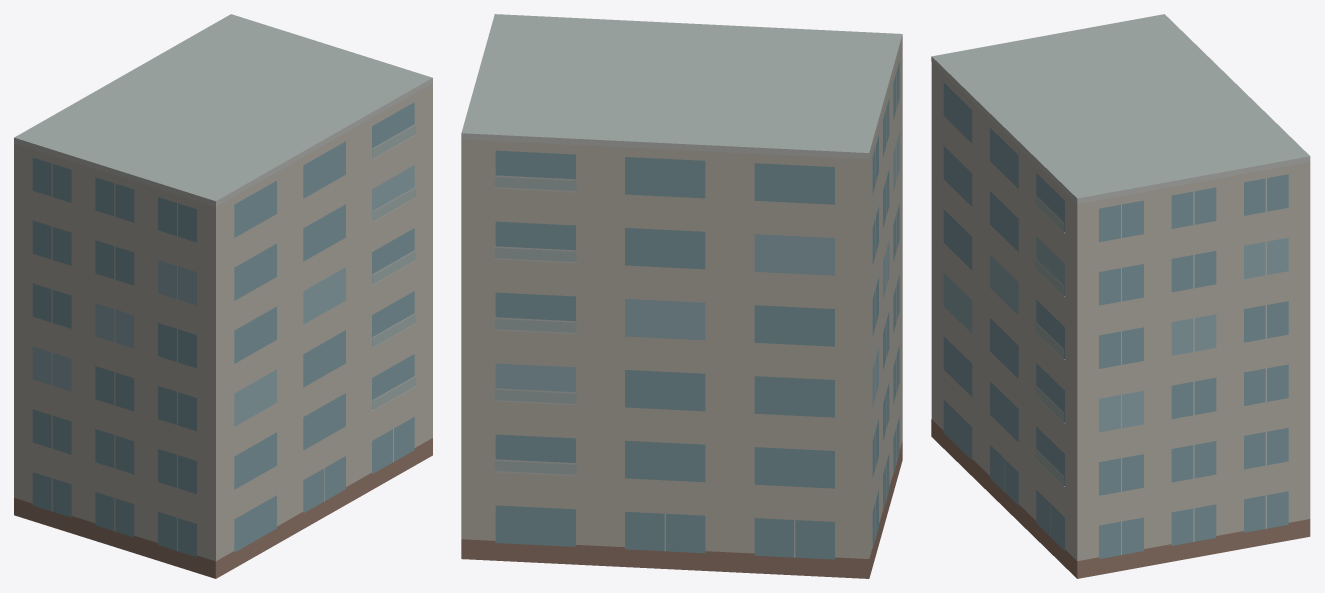
File: survey-upis-32878534.glb
The picture shows the model from 3 angles, left to right: view 1: azimuth 30°, elevation 25°; view 2: azimuth 150°, elevation 25°; view 3: azimuth 270°, elevation 25°; orthographic projection. The views are drawn at different scales.
Visible parts, largest first — view 1: survey-upis-32878534.tmp; view 2: survey-upis-32878534.tmp; view 3: survey-upis-32878534.tmp.
Boxes of the visible parts, x1,y1,x2,y2 form: survey-upis-32878534.tmp: [14, 14, 432, 578]; survey-upis-32878534.tmp: [461, 14, 902, 578]; survey-upis-32878534.tmp: [931, 14, 1310, 578].
Bounding box in the file's own units: 17.7 × 17 × 15.36.
